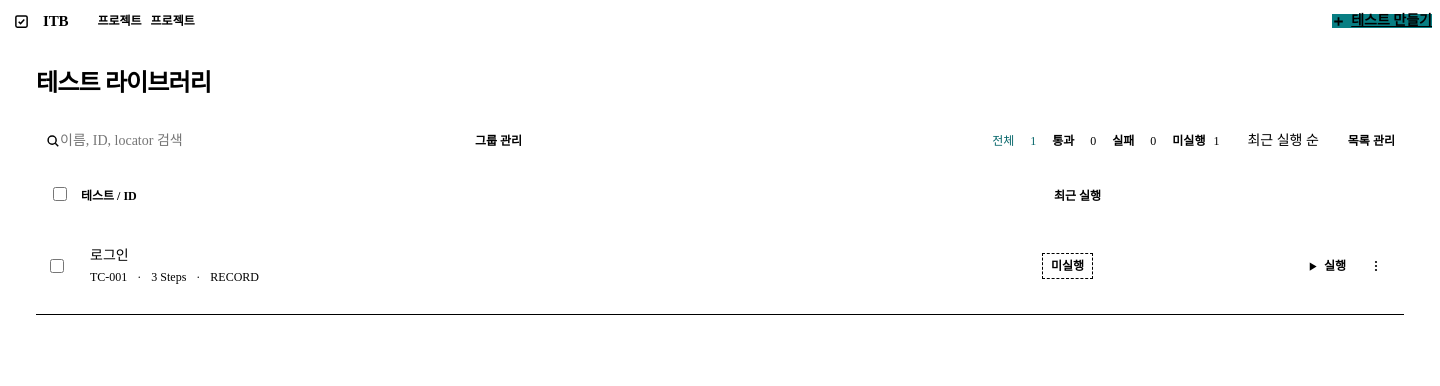
그룹 정리 › 그룹이 없어도 새 그룹으로 옮기는 길이 있다 (028 FR-023)
The image size is (1440, 386).
Expected: the text "로그인" is shown, top-left (90, 248), bottom-right (129, 263)
Click the checkbox named "로그인 선택" at (57, 266), box top-left (50, 259), bottom-right (64, 273)
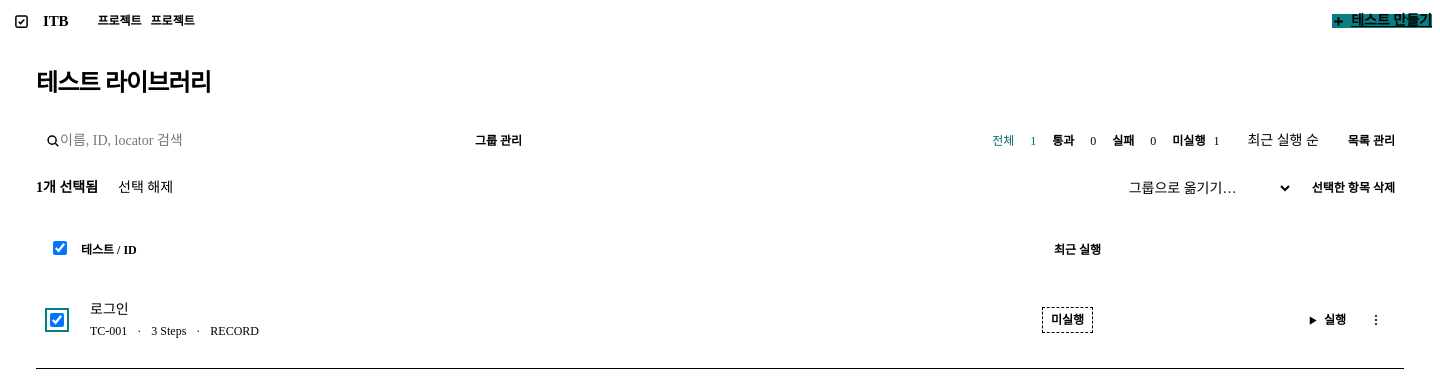
Expected: the element showing "1개 선택됨 선택 해제 선택한 항목 삭제" is shown, top-left (36, 174), bottom-right (1404, 202)
